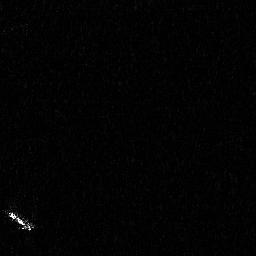ship: (1, 205, 40, 232)
